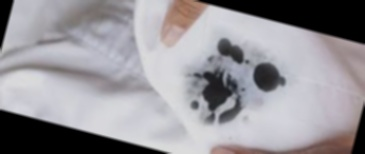ink: (196, 71, 233, 113), (249, 61, 285, 94), (216, 37, 246, 64), (219, 105, 238, 126)
